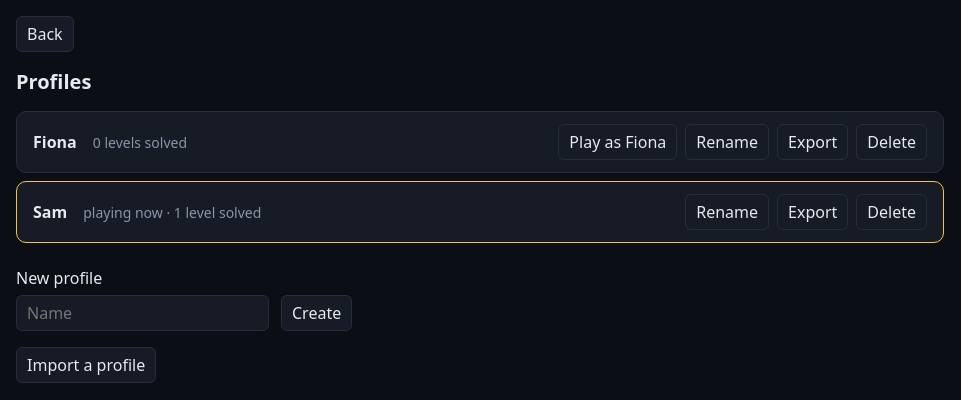
it: ProfilesScreen › shows who plays now and how far each profile got, and switches
Expected: the text "playing now · 1 level solved" is shown, [83,202,261,222]
Expected: the text "0 levels solved" is shown, [93,132,187,152]
Click the button "Play as Fiona".
click(618, 142)  # box [558,124,677,160]
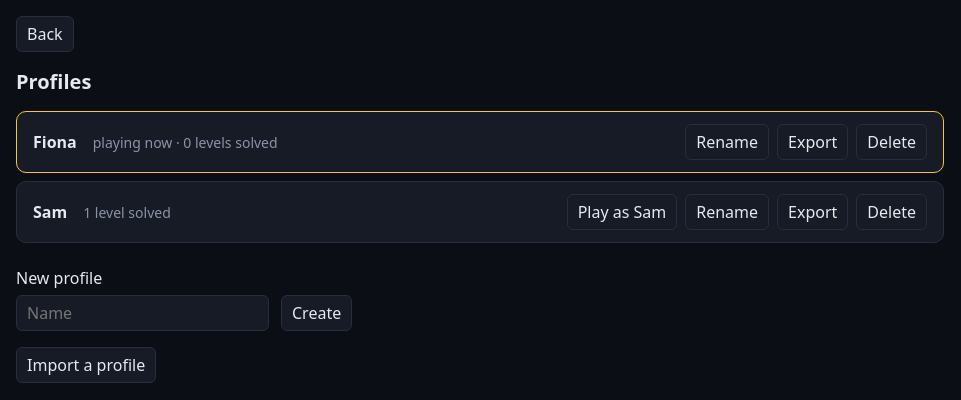
Expected: the text "Fiona" is shown, [33,131,77,153]
Result: the text "playing now · 0 levels solved" is shown at [93,132,278,152]
